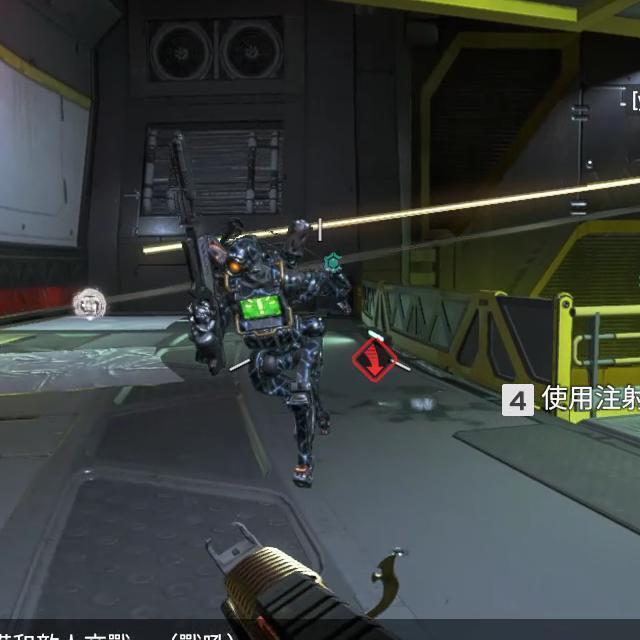avatar: (188, 219, 353, 490)
